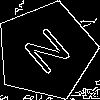N: (21, 26, 79, 84)
